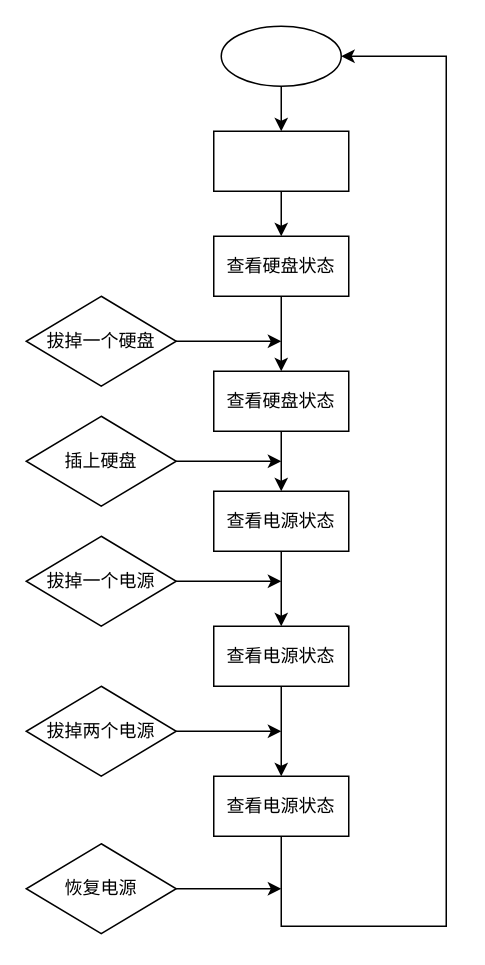
Image size: 485x965. Some labels were removed from this diagram. Each missing label, with the centre of its shape:
"查看系统状态" belongs at (280,160).
"登录" belongs at (280,55).
